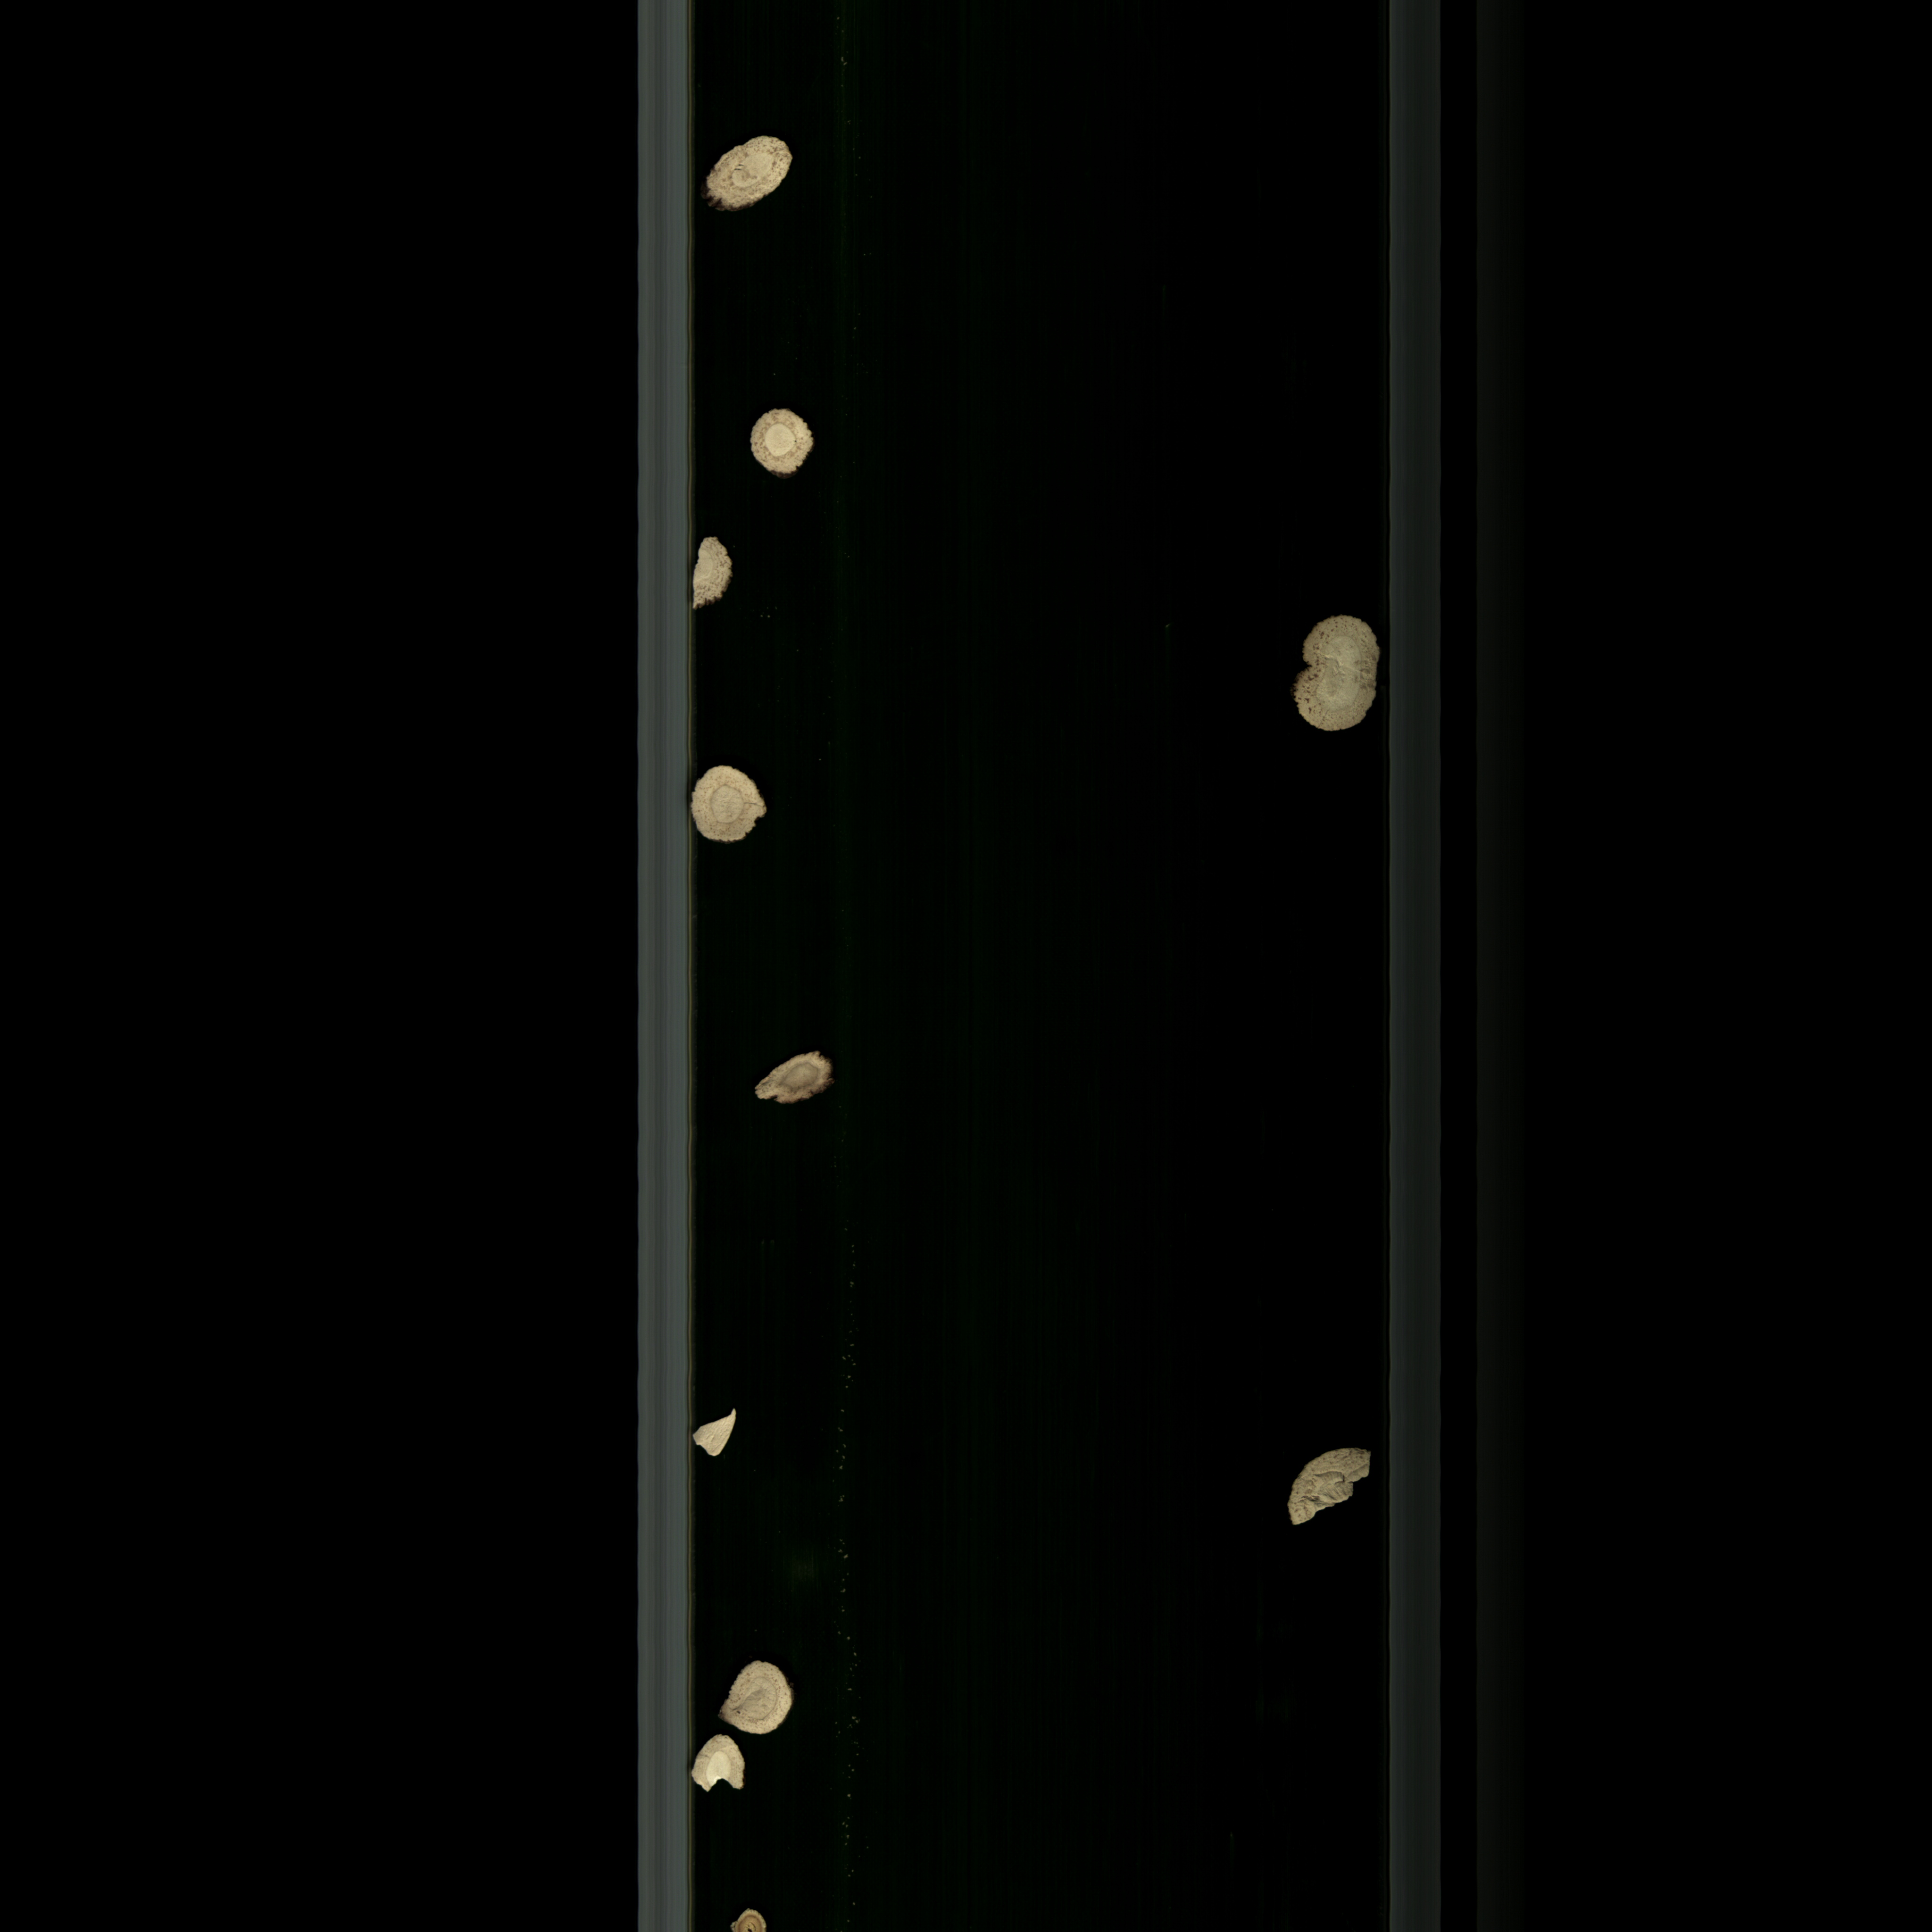debris: (1269, 1444, 1380, 1537), (694, 531, 736, 617)
distortion: (1288, 605, 1384, 752), (695, 131, 805, 218), (711, 1651, 816, 1736), (686, 755, 764, 856), (692, 1403, 748, 1467)
dreg: (685, 1730, 755, 1806)
moldy: (731, 1044, 844, 1116), (729, 1907, 773, 1932)
